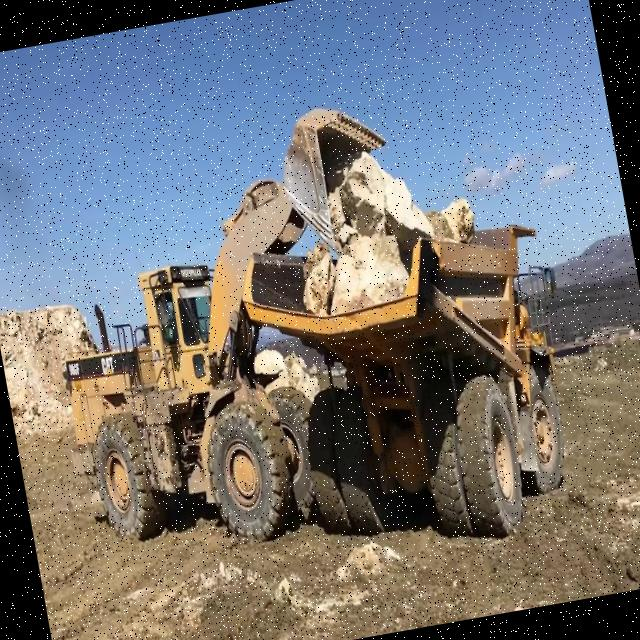Dump Truck: (226, 194, 598, 576)
Loader: (15, 90, 452, 575)
